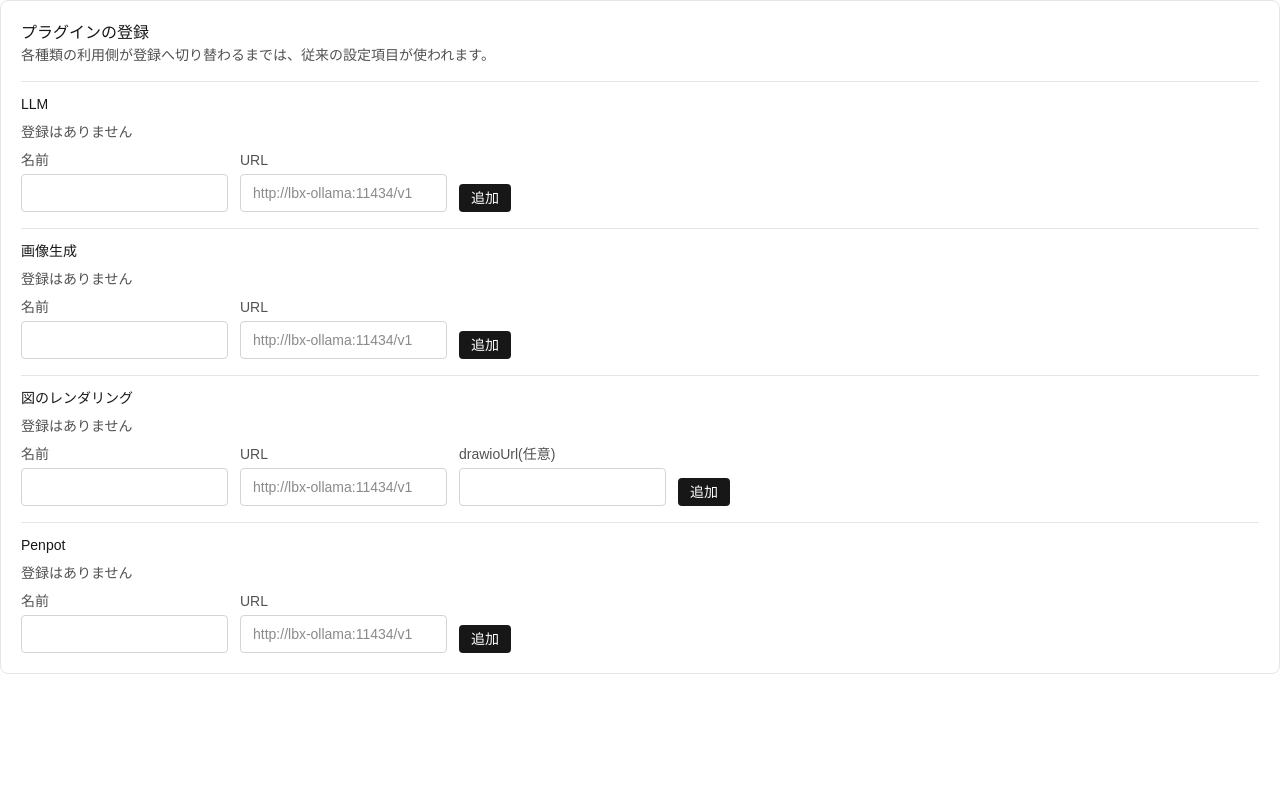
Test: PluginRegistrationsPanel(issue #1807) › 保存が拒否されたら理由を表示する
The width and height of the screenshot is (1280, 800).
Click the 1st button "追加": (485, 198) [459, 184, 511, 212]
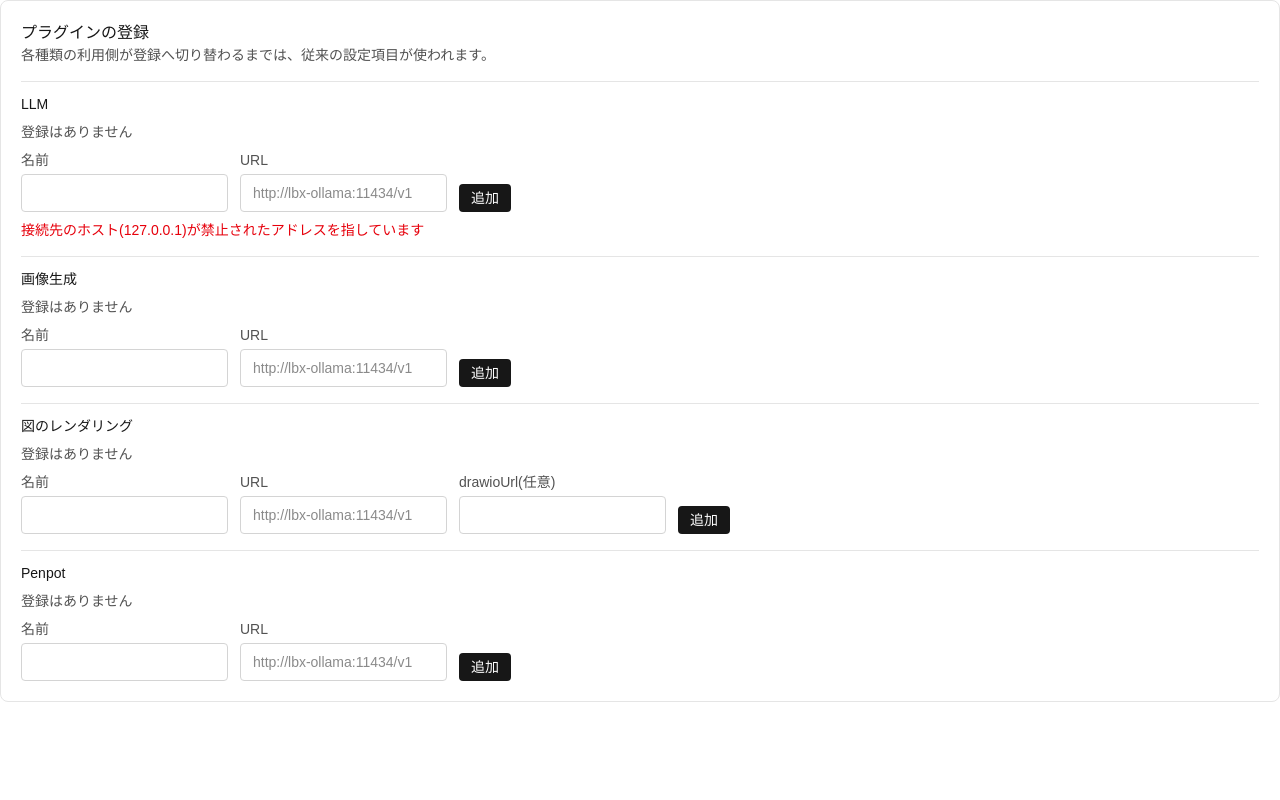
Expected: the message shows "禁止されたアドレス", [21, 222, 424, 238]
